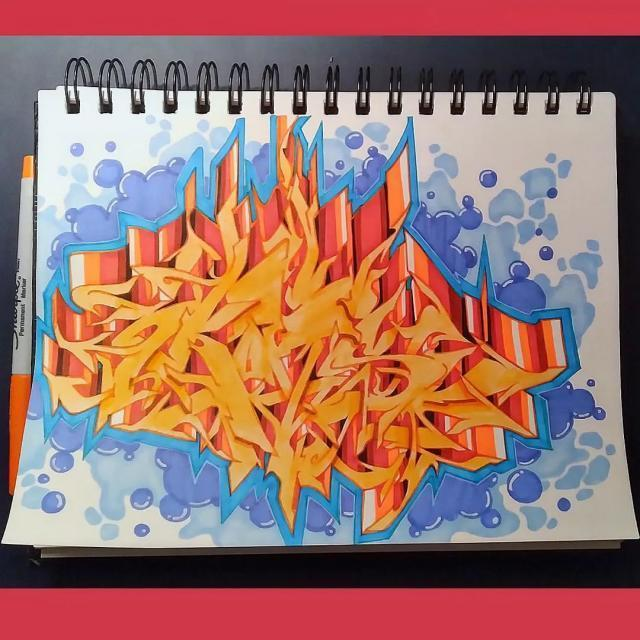-: (2, 92, 616, 540)
